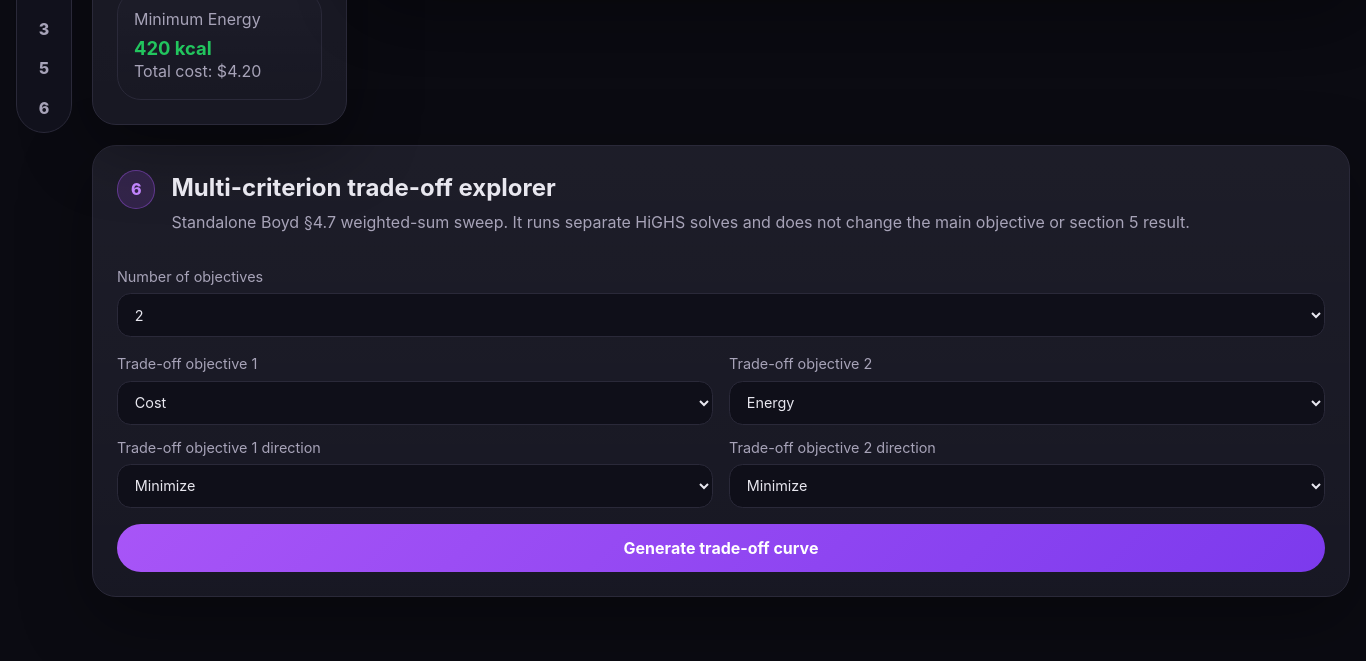
Test: DietOptimizer trade-off explorer › shows one-objective mode as a pointer back to section 4 instead of duplicating that UI
(page scrolled)
Select "1" in the dropdown labelled "Number of objectives": (721, 316) [117,294,1325,338]
(page scrolled)
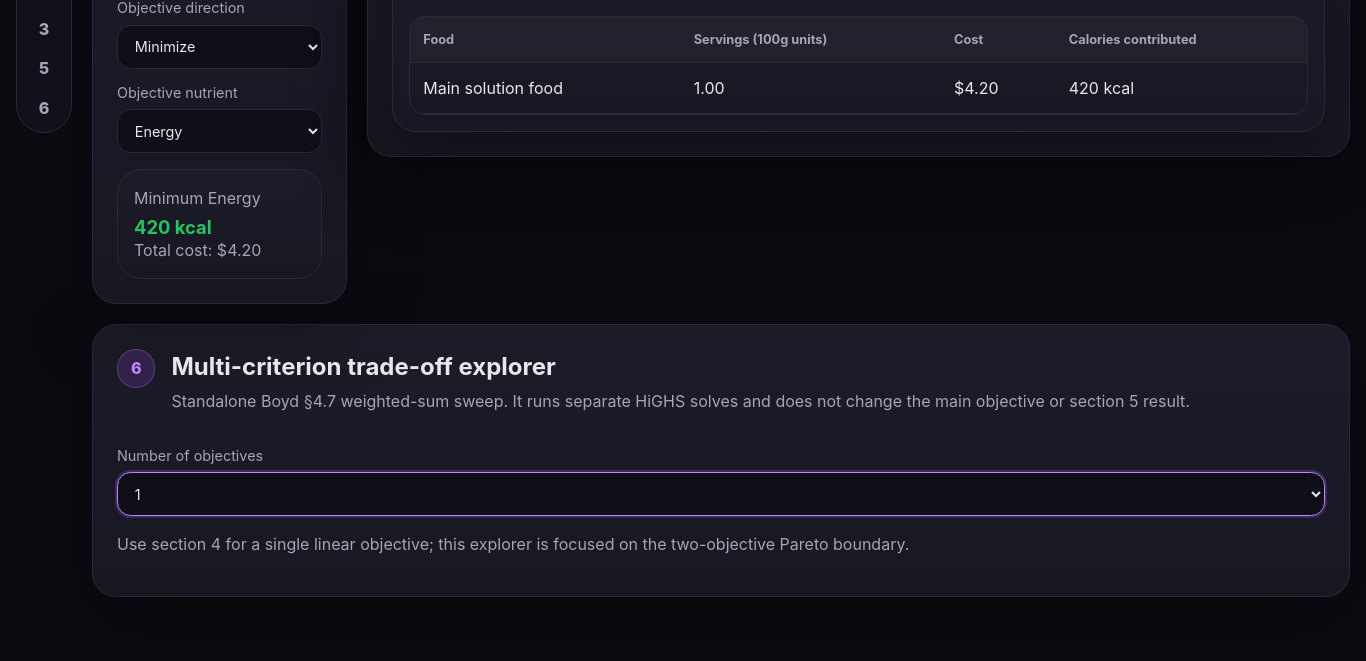
Now the text "Use section 4" is shown, box [117,534,909,554]
Now the button "Generate trade-off curve" is gone
